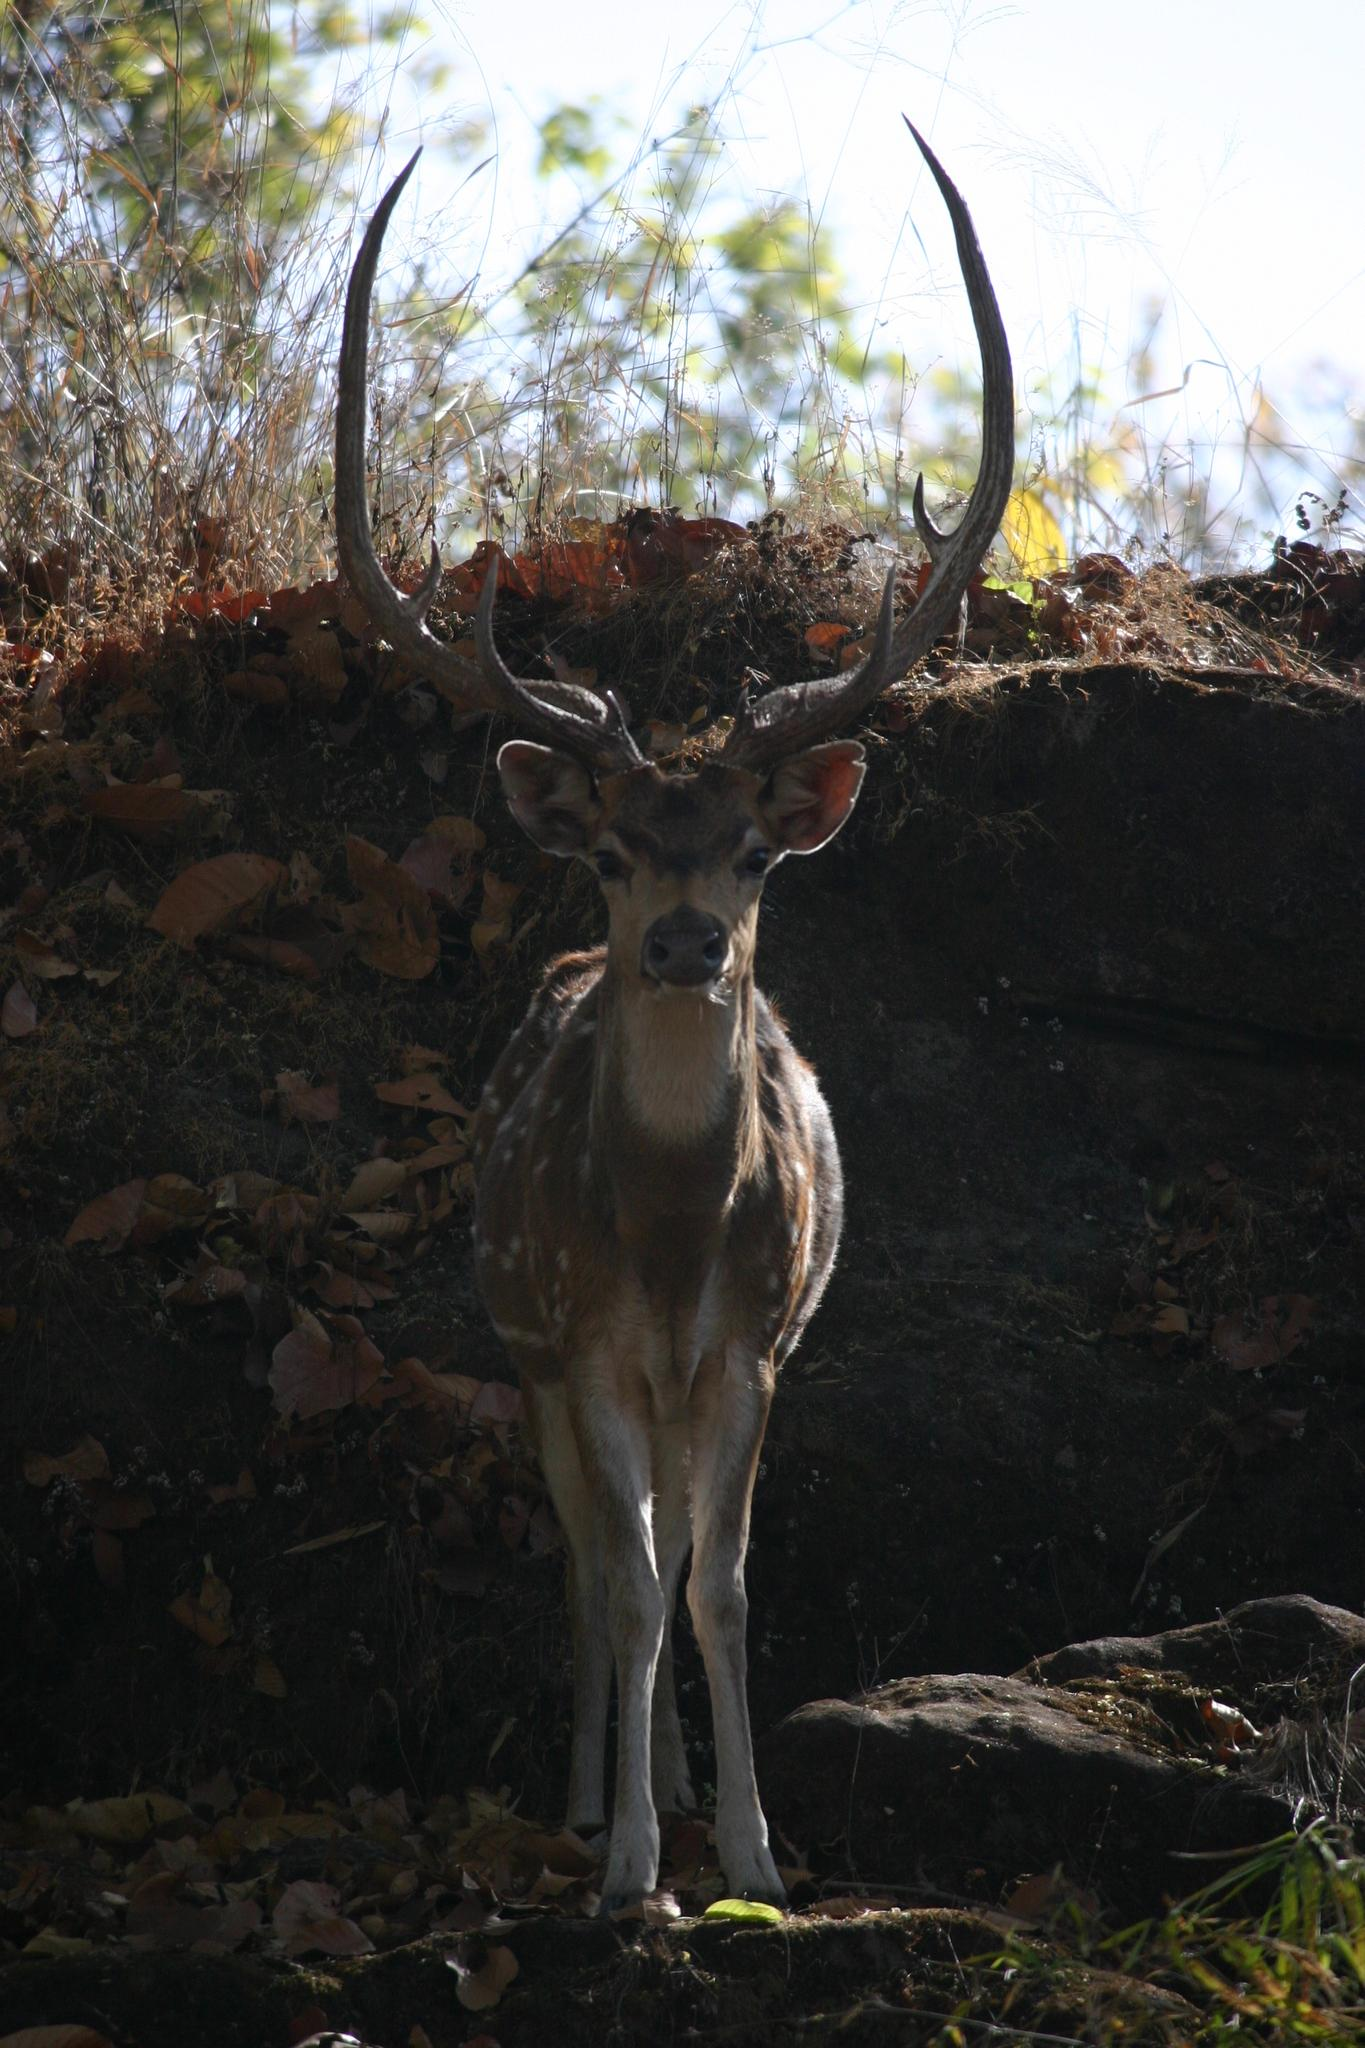Deer: (335, 128, 1013, 1909)
